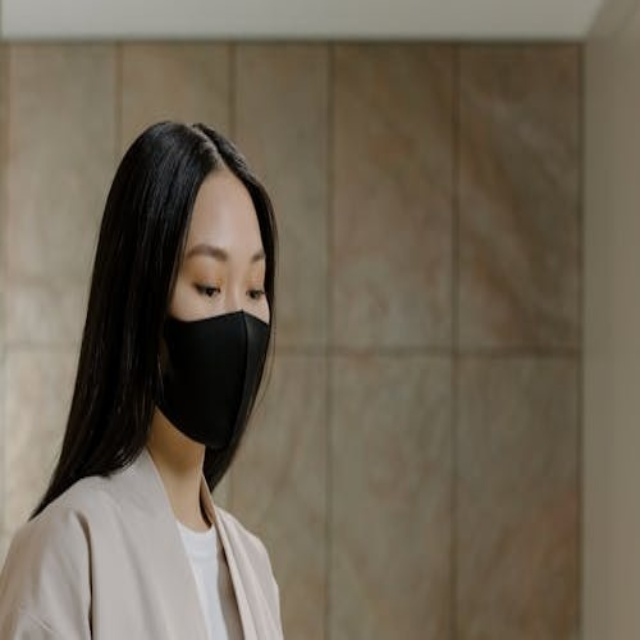Mascara: (157, 310, 271, 450)
Sin_gafas: (186, 242, 269, 308)
